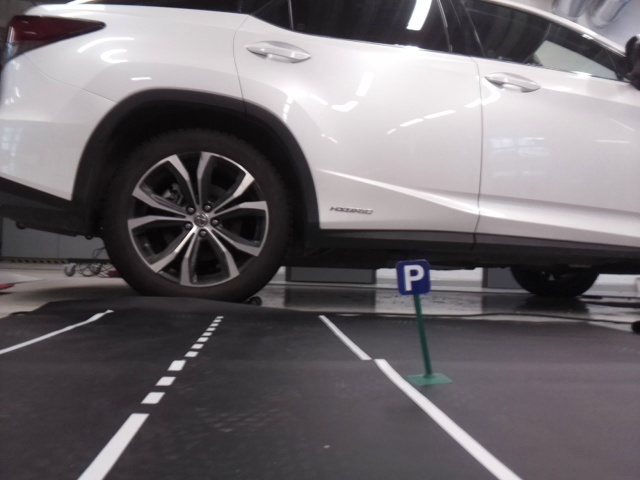Parking: (394, 260, 431, 295)
